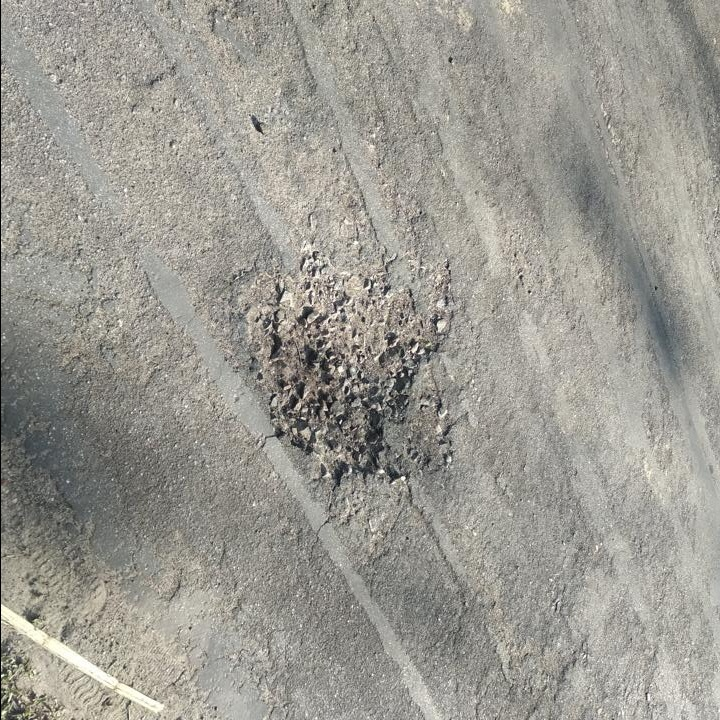pothole: (245, 258, 452, 481)
